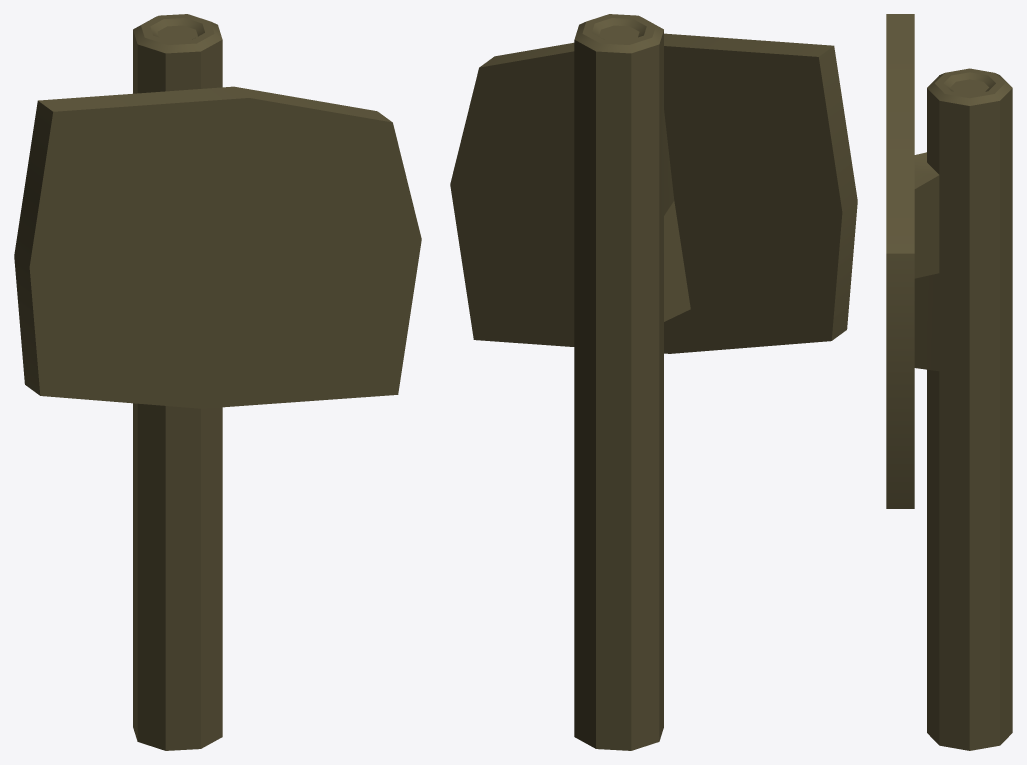
Rendered from LetreroMapa 1.fbx.
3 views of the same model, side by side, from view 1: azimuth 30°, elevation 25°; view 2: azimuth 150°, elevation 25°; view 3: azimuth 270°, elevation 25° (orthographic). The views are drawn at different scales.
Parts seen in each view (by area): view 1: LetreroMapa; view 2: LetreroMapa; view 3: LetreroMapa.
Boxes of the visible parts, x1=… form: LetreroMapa: x1=14, y1=14, x2=421, y2=750; LetreroMapa: x1=450, y1=14, x2=857, y2=750; LetreroMapa: x1=886, y1=14, x2=1012, y2=750.
Bounding box in the file's own units: 1.71 × 2.93 × 0.5168.
